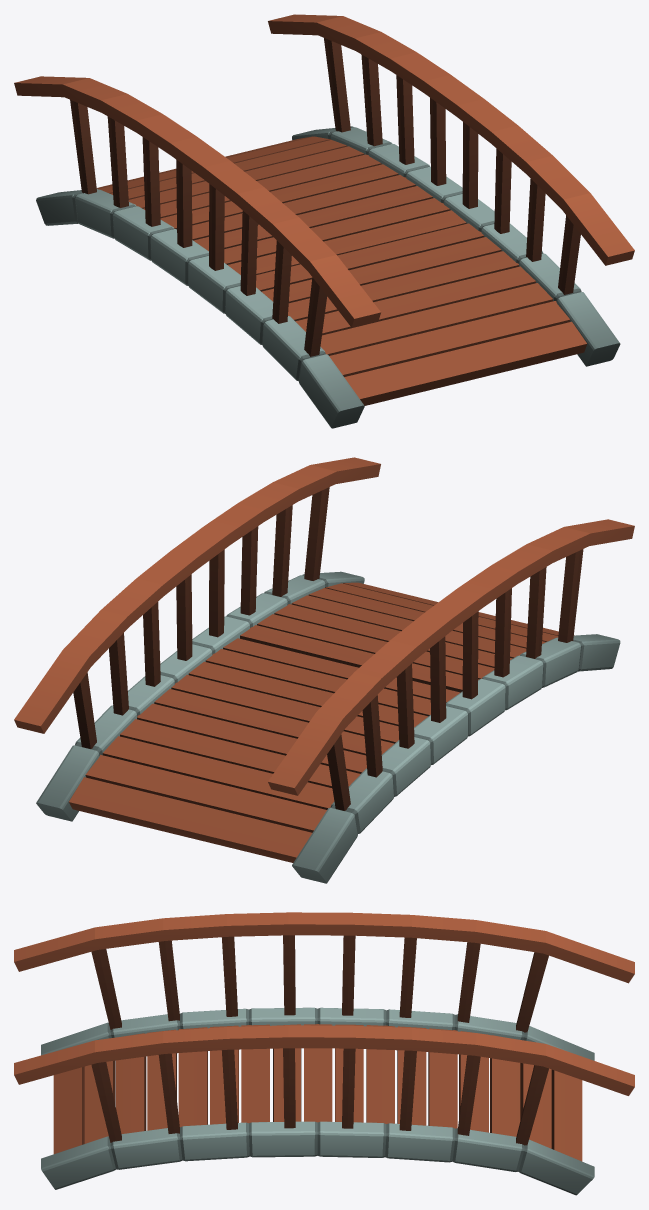
Rendered from M_BRIDGE Colo.fbx.
3 renders of one model, top to bottom at view 1: azimuth 30°, elevation 25°; view 2: azimuth 150°, elevation 25°; view 3: azimuth 270°, elevation 25°, orthographic. The views are drawn at different scales.
Visible parts, largest first — view 1: Plane.079; view 2: Plane.079; view 3: Plane.079.
Boxes of the visible parts, x1,y1,x2,y2 form: Plane.079: [14, 14, 634, 428]; Plane.079: [14, 457, 634, 883]; Plane.079: [14, 912, 634, 1195].
Bounding box in the file's own units: 2107 × 1240 × 4397.
